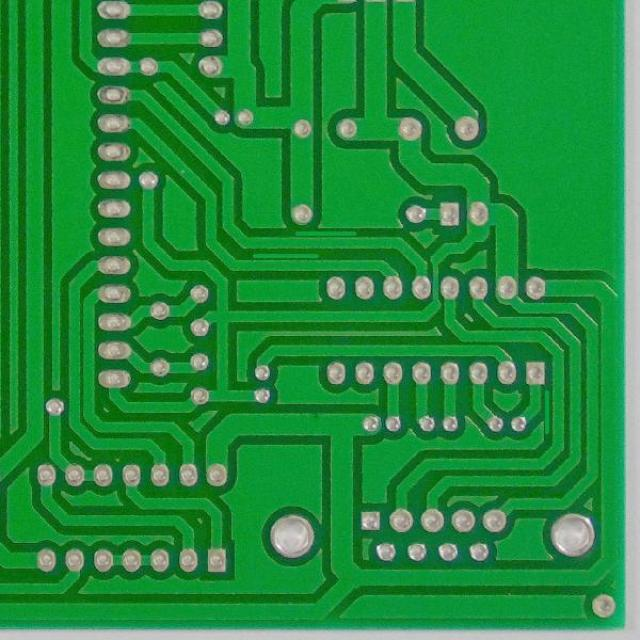Spurious_Cooper: (251, 248, 324, 262), (294, 228, 361, 239), (541, 386, 552, 437)
